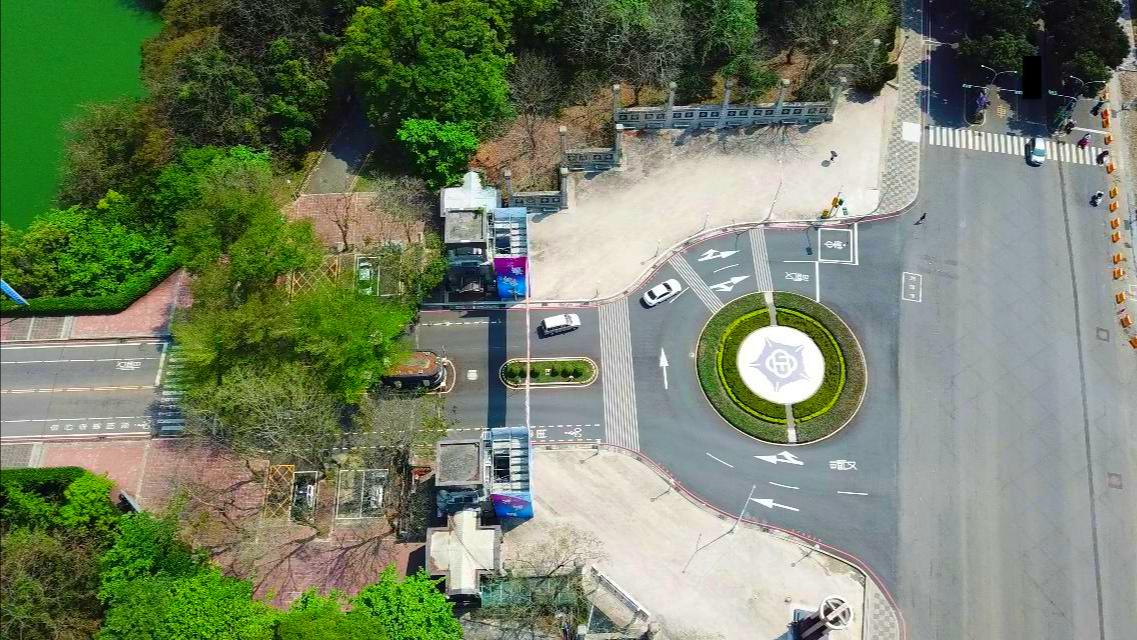vehicle: (643, 278, 682, 307), (291, 474, 314, 519), (365, 470, 388, 515), (541, 313, 581, 335), (357, 261, 373, 298), (1028, 135, 1047, 164)
